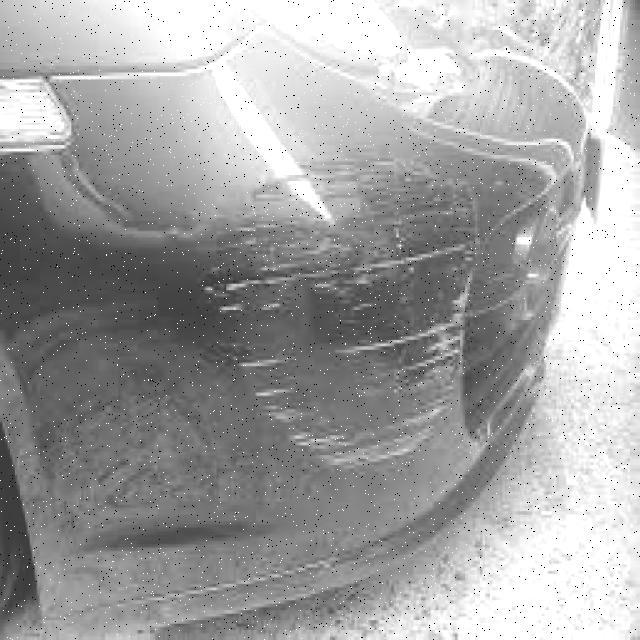car damage: (204, 155, 480, 472)
